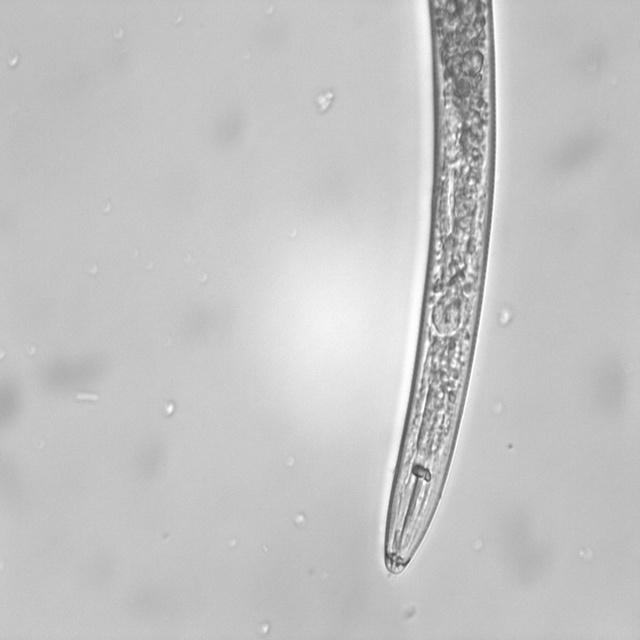Helicotylenchus: (374, 0, 506, 585)
